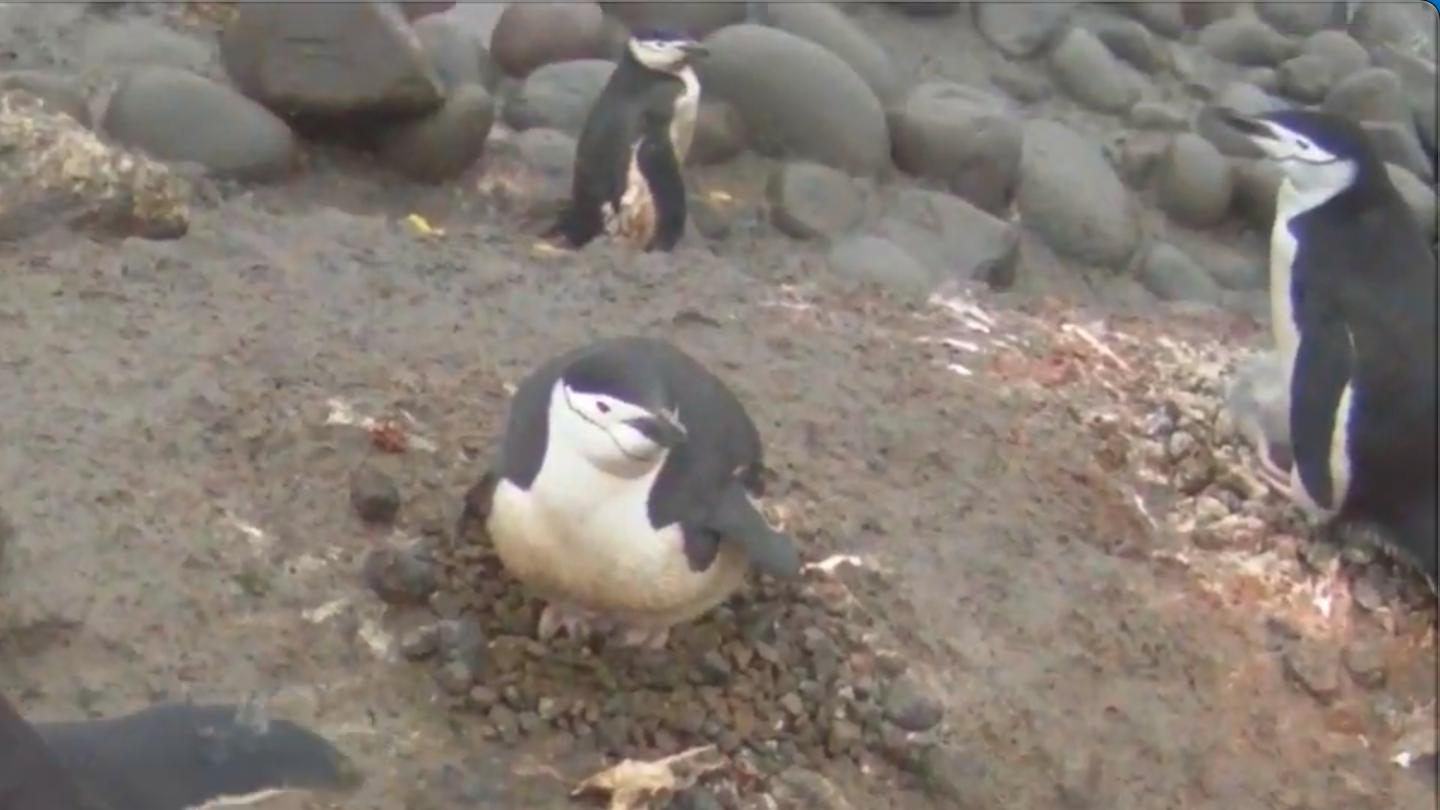Chinstrap Penguin: (447, 323, 814, 643), (1181, 93, 1440, 540), (0, 575, 437, 810), (539, 0, 736, 276)
